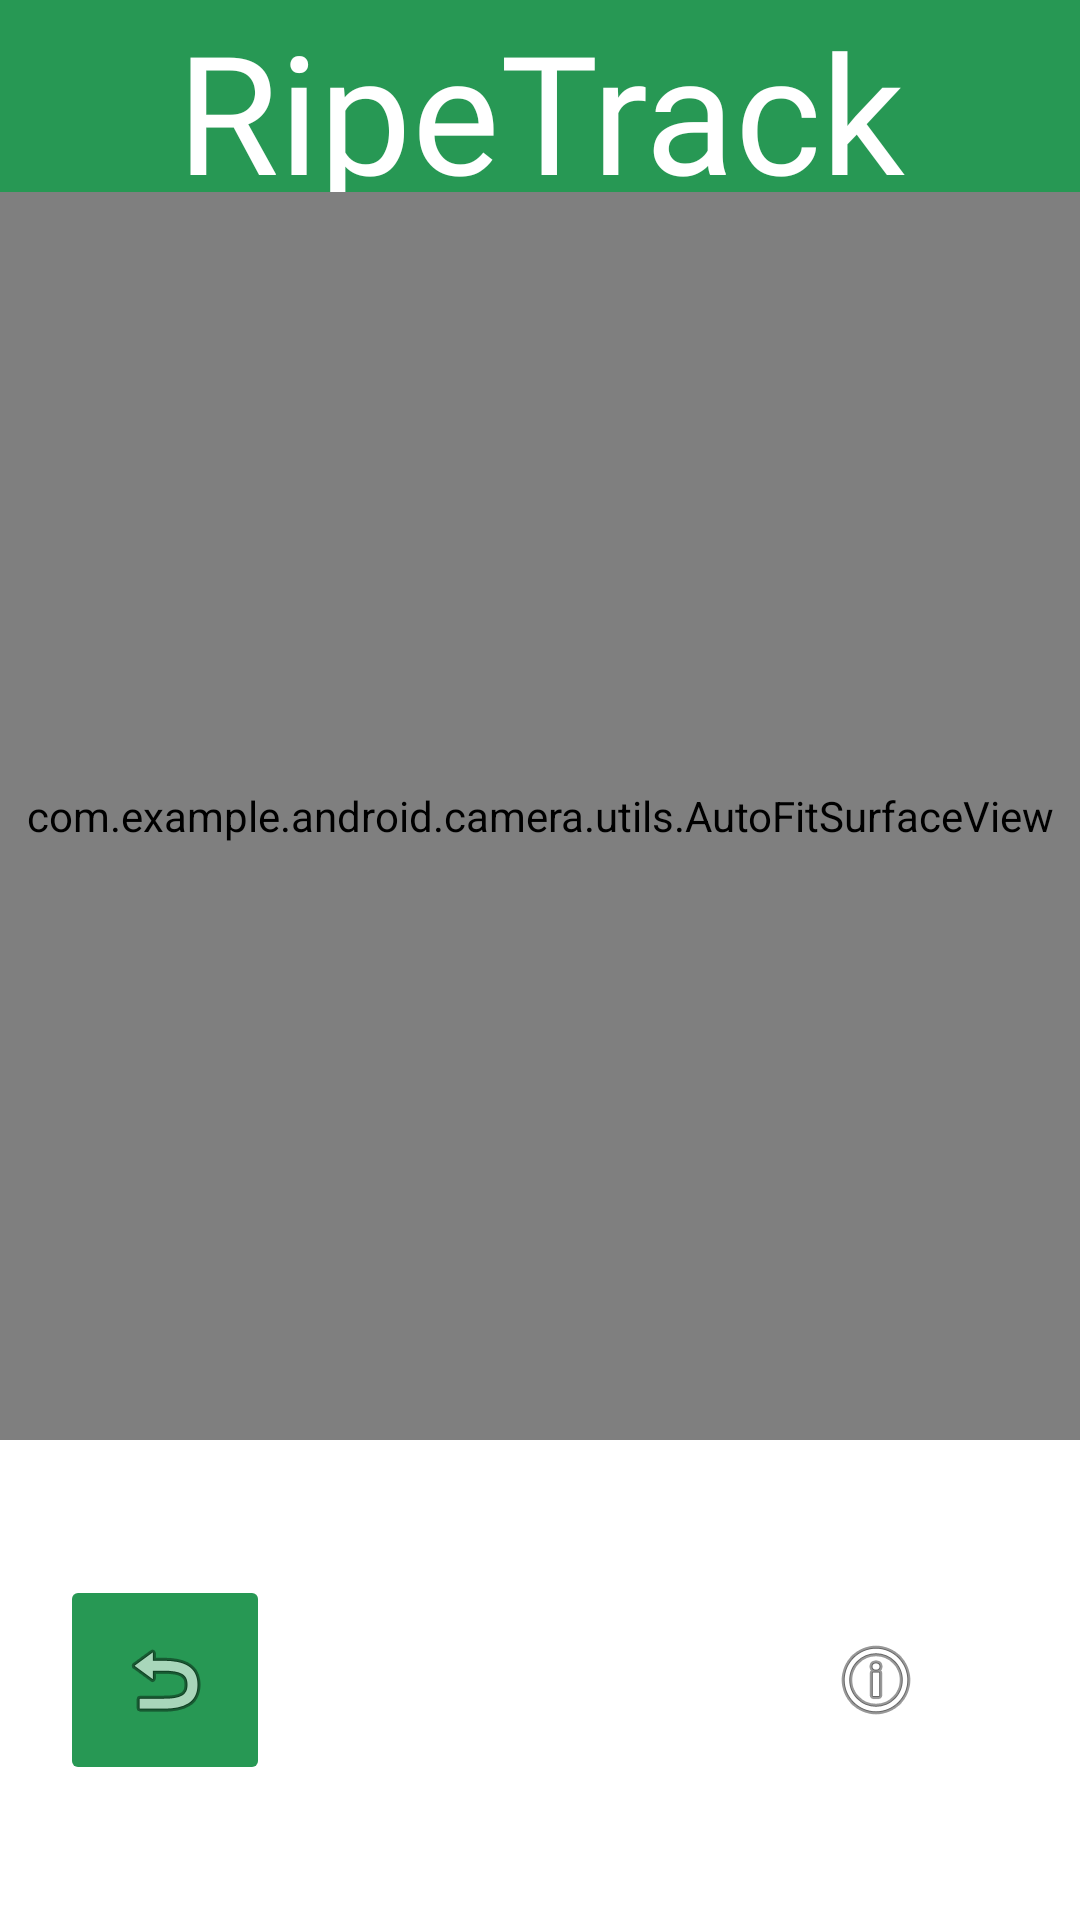

Icon bounding boxes for this 1080px x 1920px phone screenshot, format (x1, y1, x2, y2):
Show information regarding the fragment: (841, 1645, 911, 1715)
